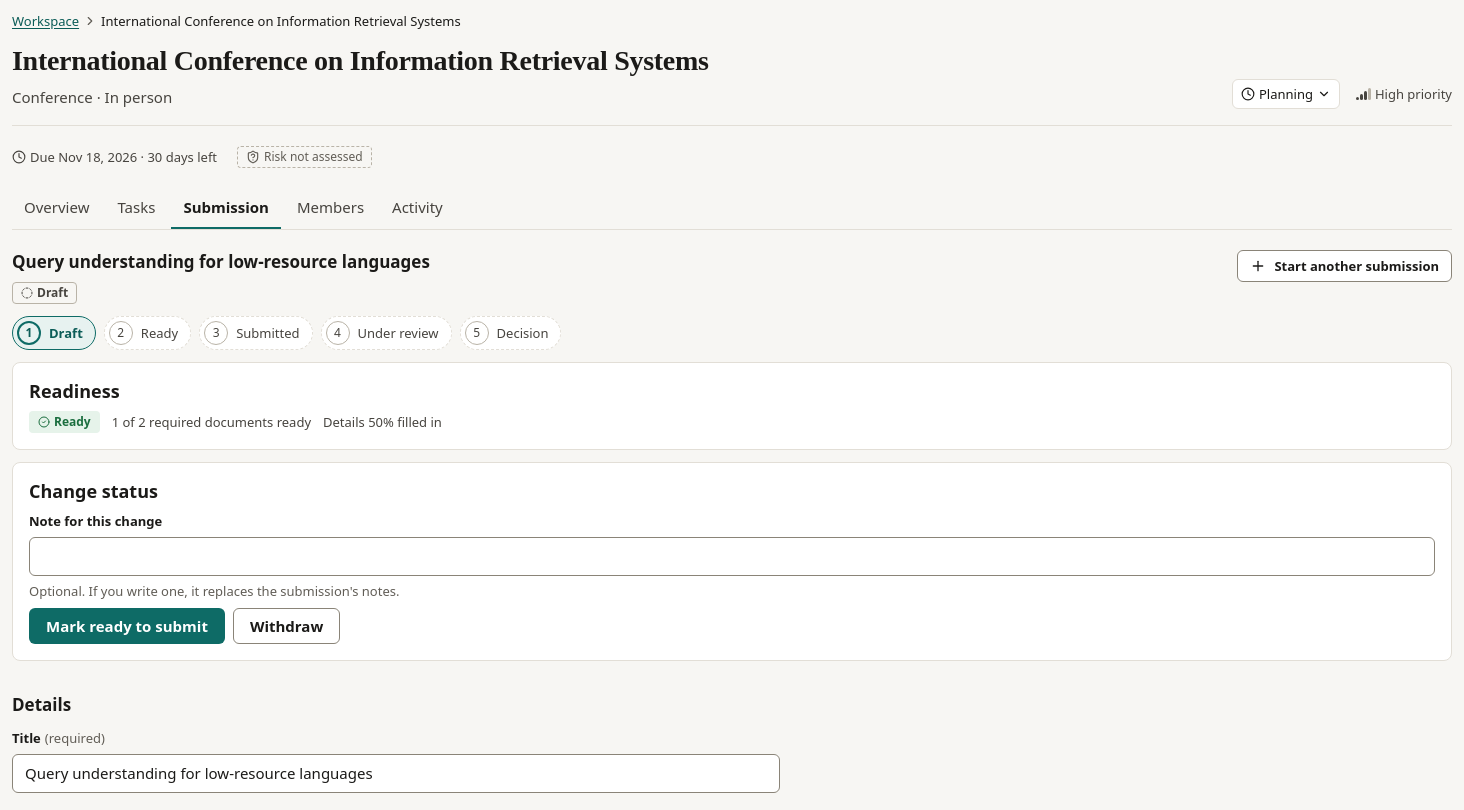
Test: a submission's status › moves to the next status when ready, and says why the server refused otherwise
Click the button "Mark ready to submit": (127, 626) [29,608,225,644]
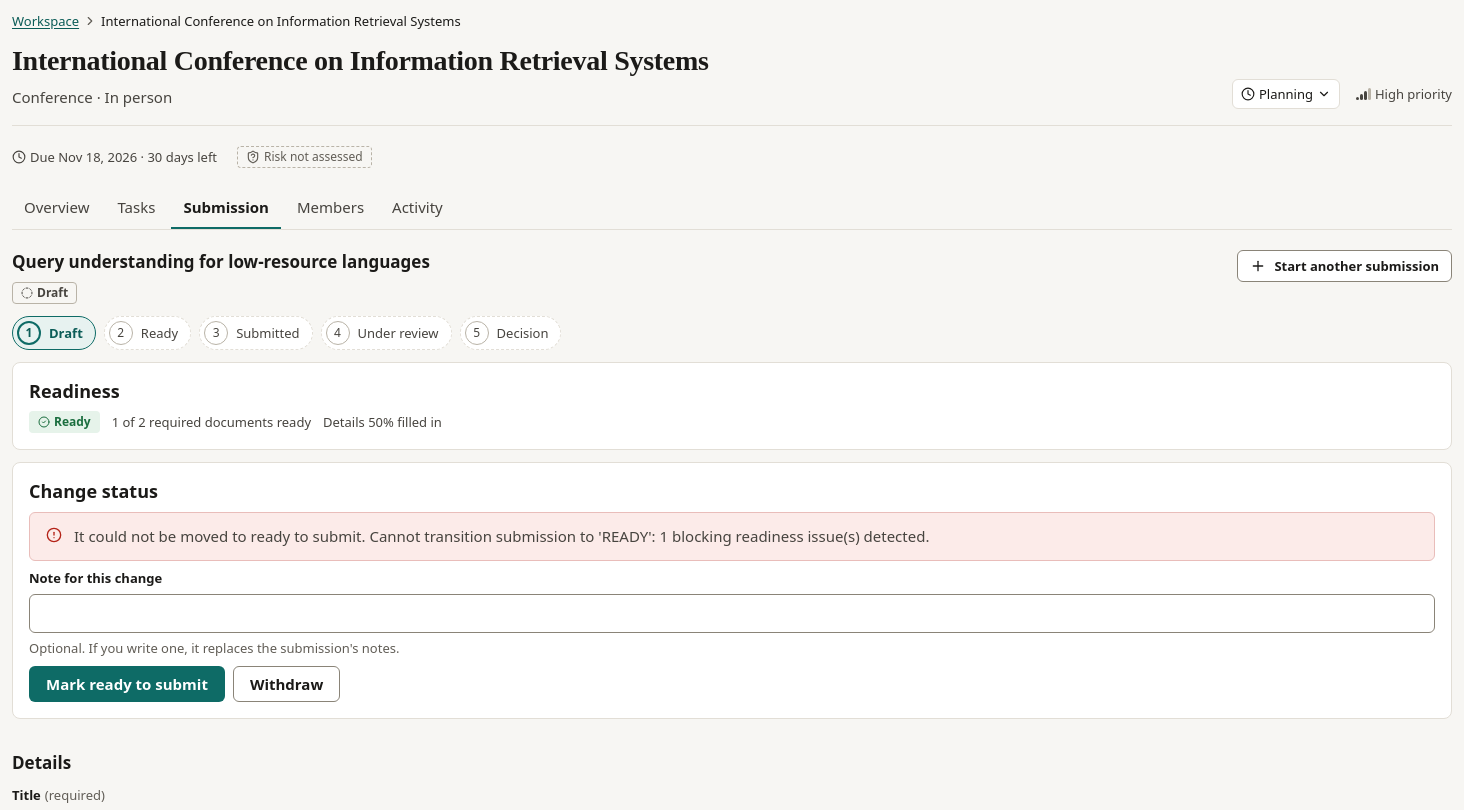
Check: the message shows "It could not be moved to ready to submit. Cannot transition submission to 'READY': 1 blocking readiness issue(s) detected.", box [74,526,929,546]
Click the button "Mark ready to submit": (127, 684) [29,666,225,702]
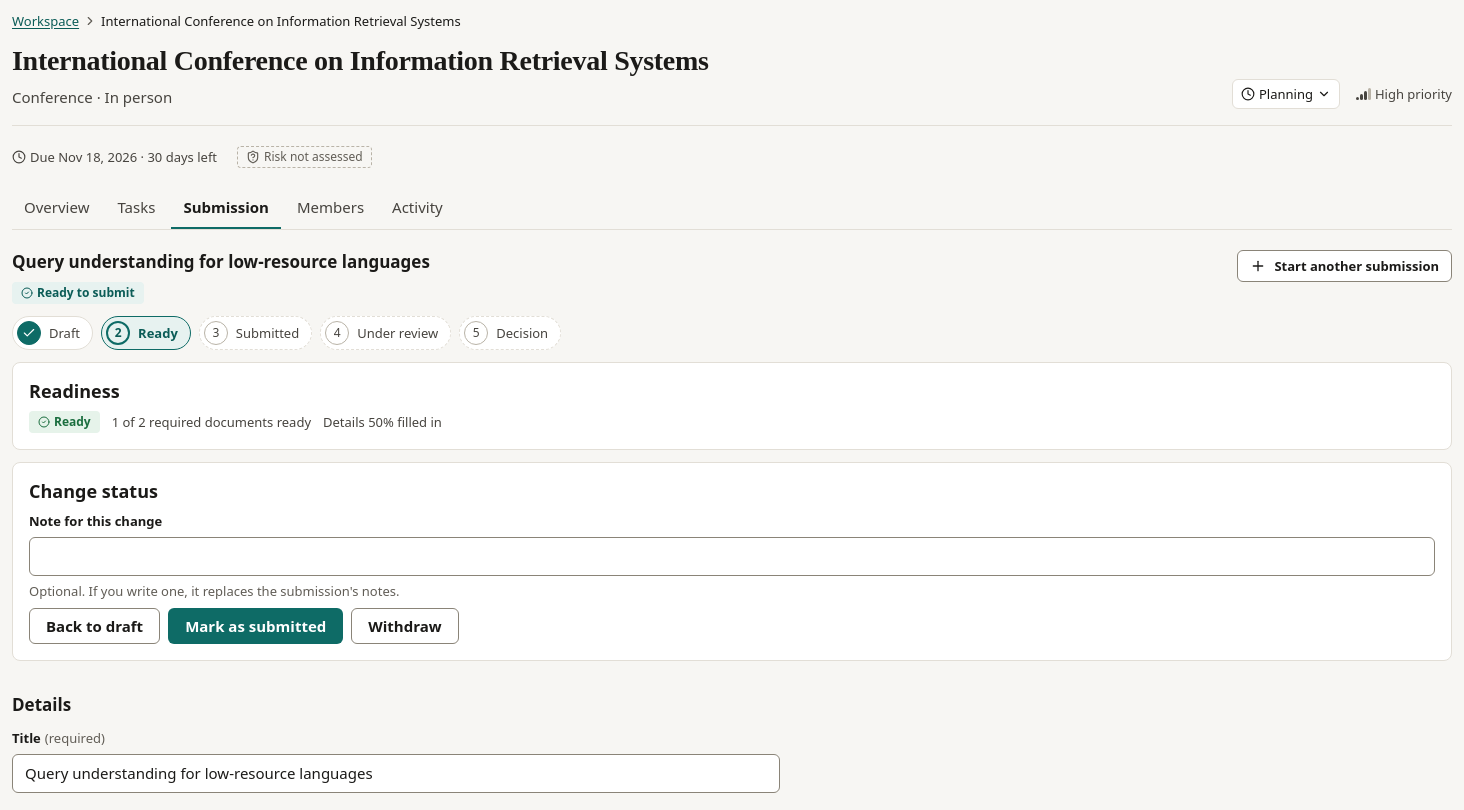
Check: the list item "2 Ready" is shown, box [101,316,191,350]
Check: the button "Mark as submitted" is shown, box [168,608,343,644]
